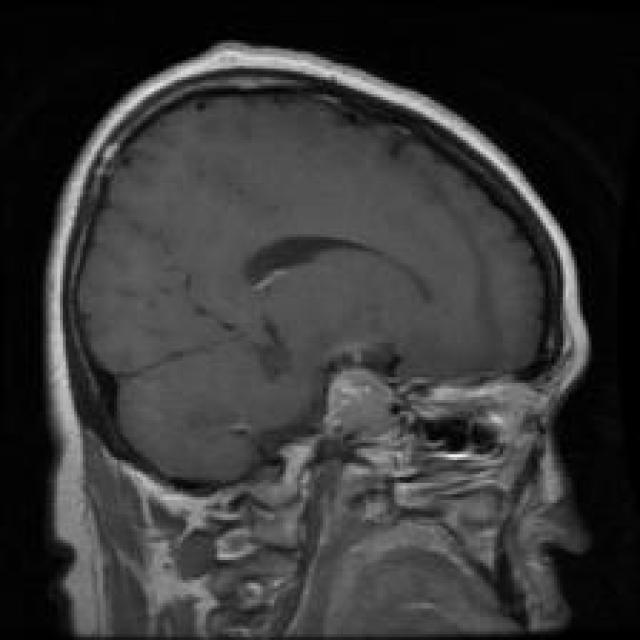pituitary_tumor: (299, 334, 428, 472)
